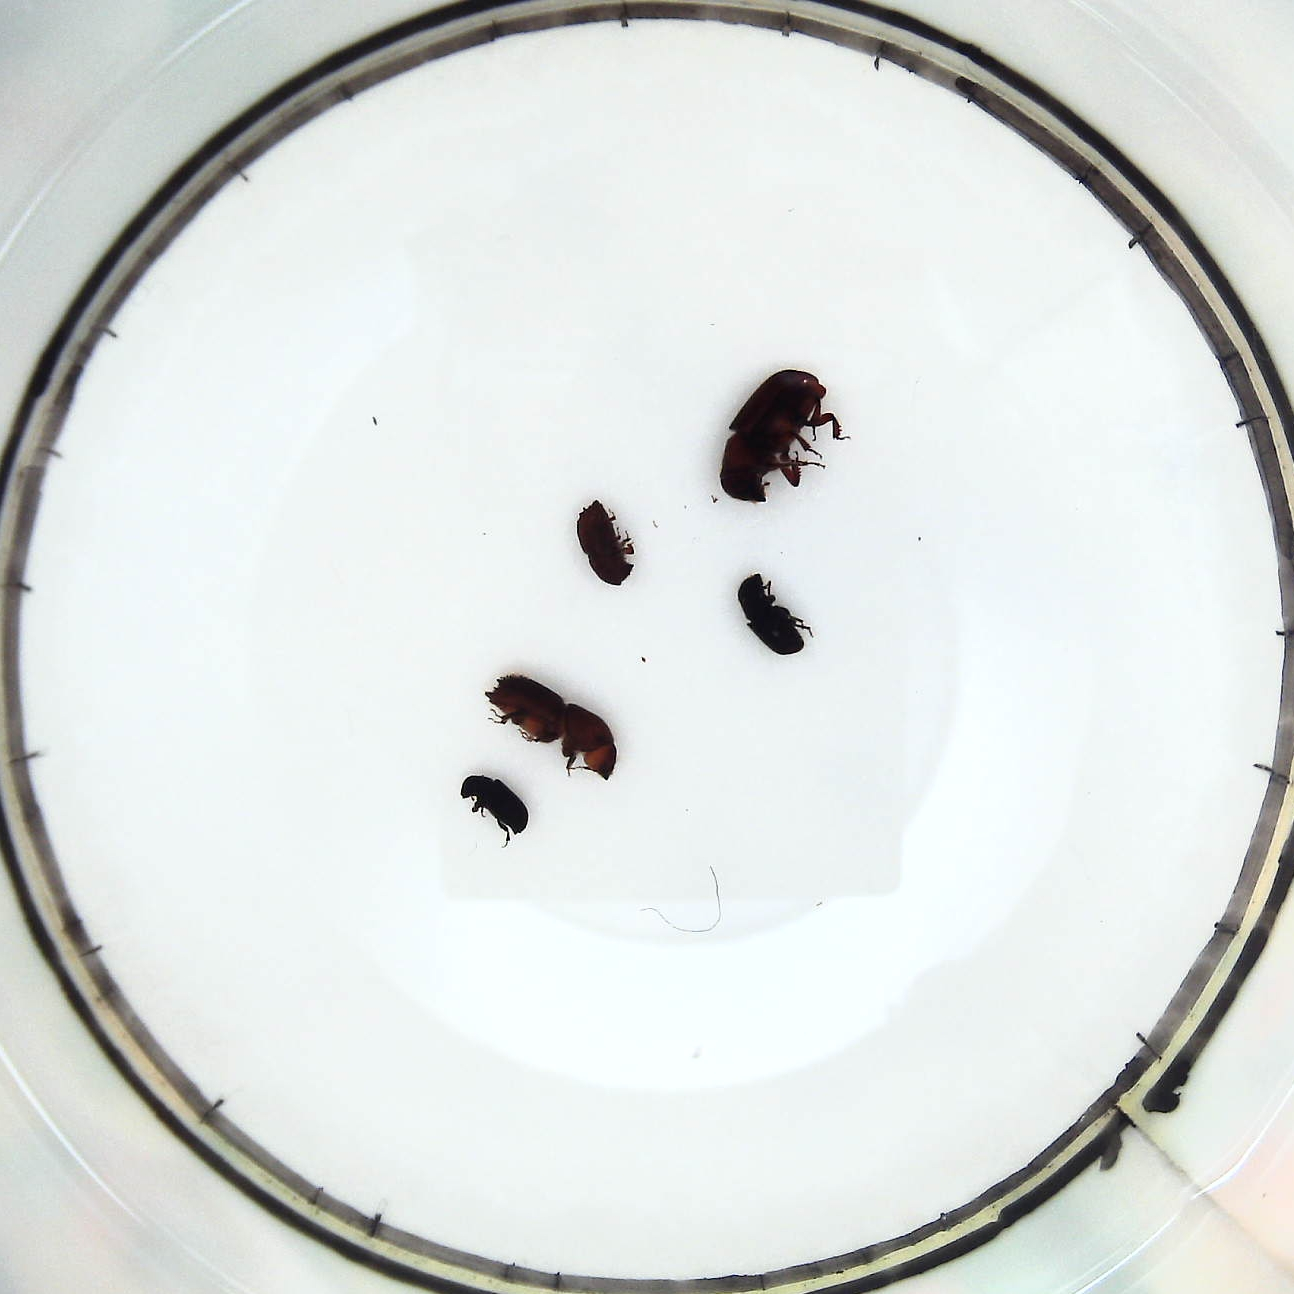Boerner: (482, 672, 621, 786)
Leconte: (709, 364, 851, 507)
armandi: (729, 566, 819, 662)
coleoptera: (459, 769, 533, 845)
linnaeus: (575, 494, 643, 591)
